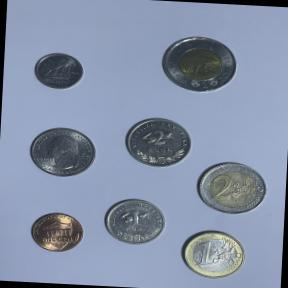coin: (157, 32, 240, 98), (193, 158, 271, 219), (25, 123, 100, 181), (122, 115, 196, 172), (176, 226, 250, 282), (26, 208, 89, 256), (29, 49, 88, 94)
